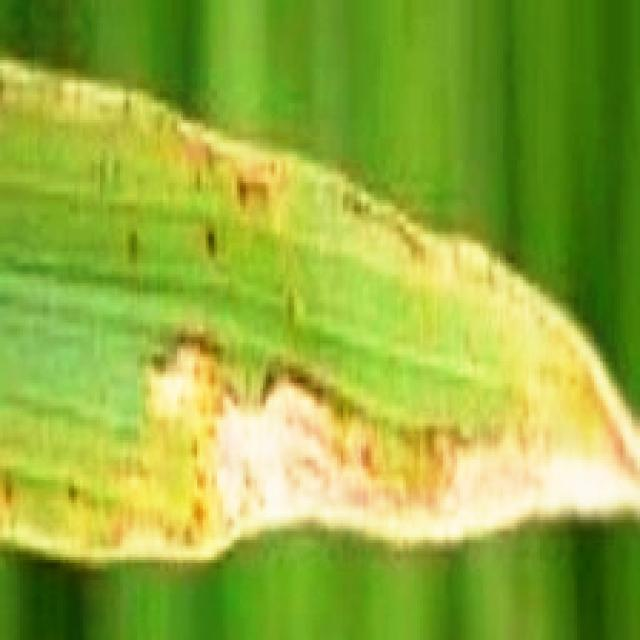unhealth: (0, 53, 640, 565)
